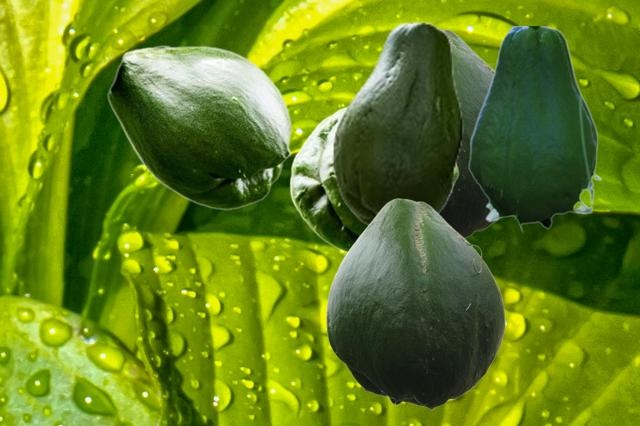sayote: (326, 198, 504, 409), (107, 45, 291, 209), (468, 26, 601, 232), (332, 21, 462, 227), (289, 105, 458, 252), (441, 29, 495, 238)
